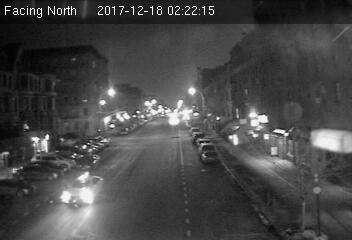car: (60, 172, 105, 206), (75, 155, 98, 170), (199, 150, 219, 164)
